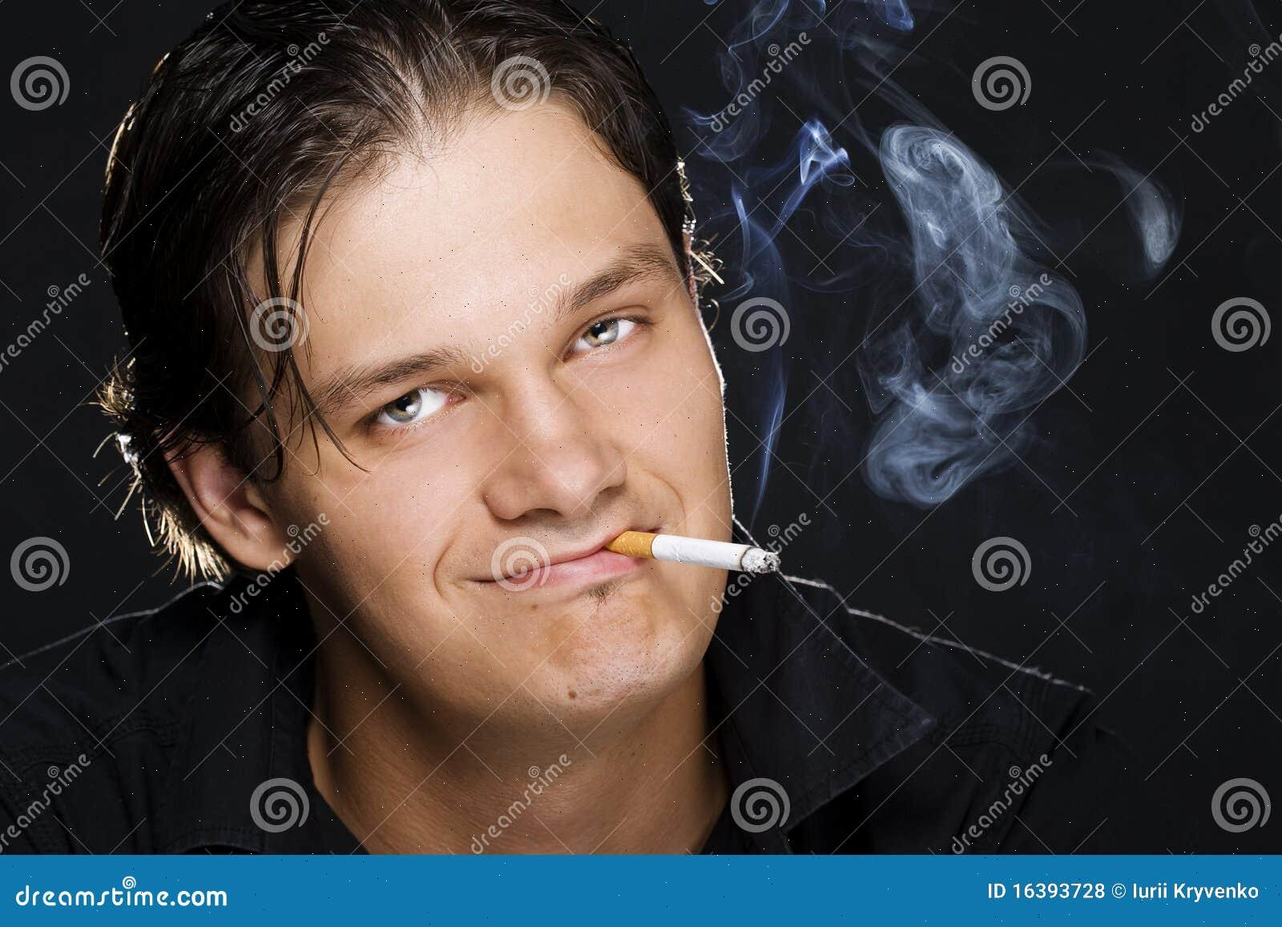cigarette: (605, 531, 779, 573)
